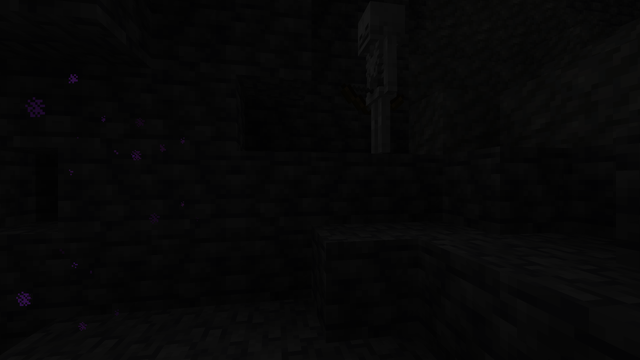squelettes: (353, 0, 409, 155)
